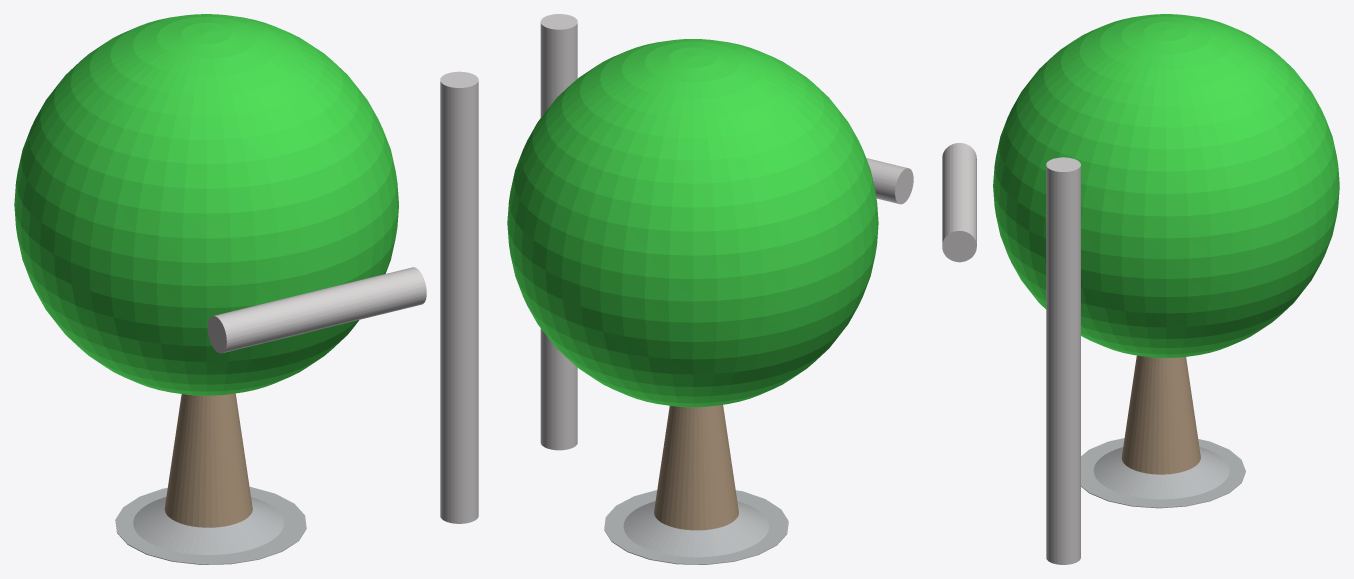
Rendered from MainSphereTreeFluro.glb.
The picture shows the model from 3 angles, left to right: view 1: azimuth 30°, elevation 25°; view 2: azimuth 150°, elevation 25°; view 3: azimuth 270°, elevation 25°; orthographic projection. The views are drawn at different scales.
Parts seen in each view (by area): view 1: Mesh_Mesh_head_geo.001_lambert2SG.001; view 2: Mesh_Mesh_head_geo.001_lambert2SG.001; view 3: Mesh_Mesh_head_geo.001_lambert2SG.001.
Part boxes in pixels (bbox=[...]): Mesh_Mesh_head_geo.001_lambert2SG.001: bbox=[14, 14, 478, 564]; Mesh_Mesh_head_geo.001_lambert2SG.001: bbox=[507, 14, 913, 564]; Mesh_Mesh_head_geo.001_lambert2SG.001: bbox=[942, 14, 1339, 564].
Size of the model in its own units: 5.68 by 7.02 by 5.73.
